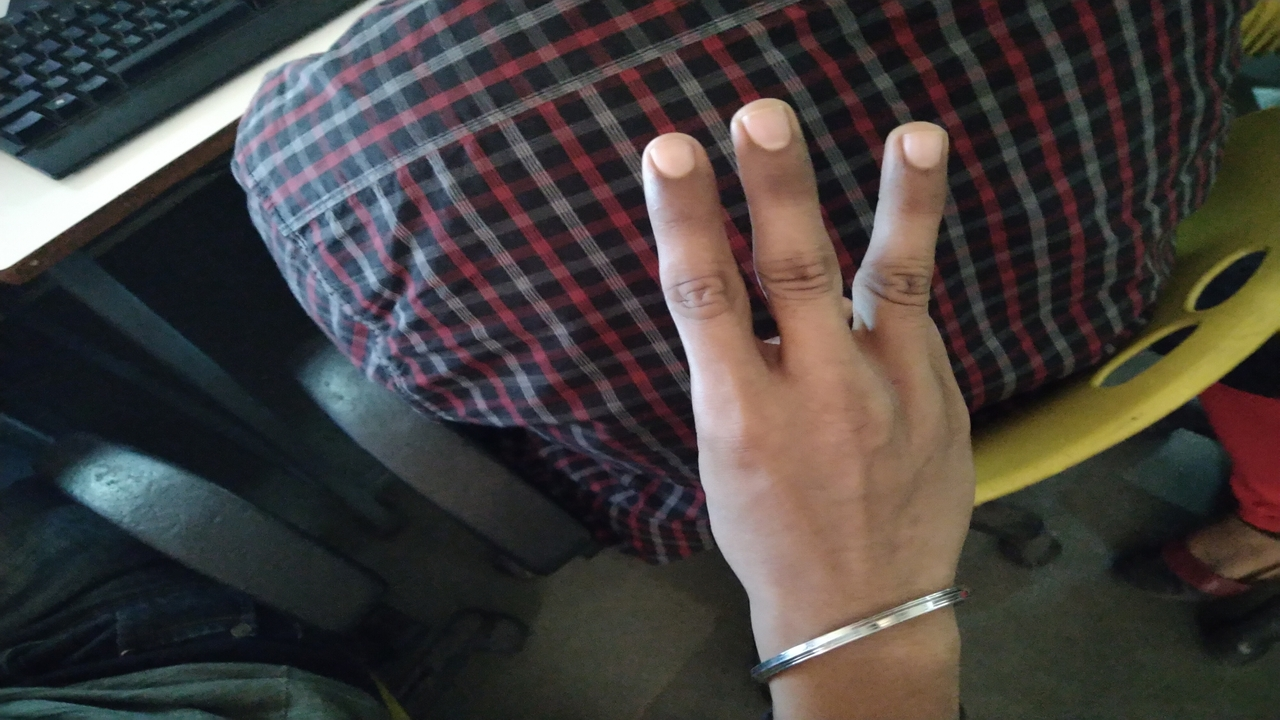fingertip: (722, 90, 806, 166), (874, 114, 956, 190), (630, 126, 710, 196)
